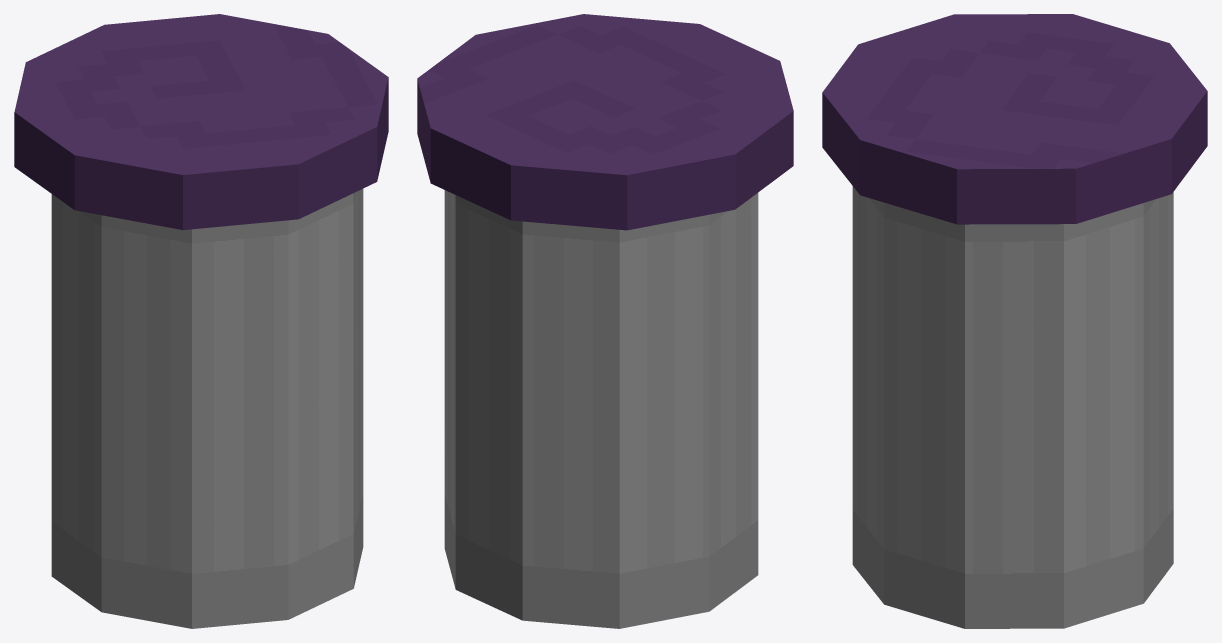
The model's file is pipeStraight.fbx.
The picture shows the model from 3 angles, left to right: view 1: azimuth 30°, elevation 25°; view 2: azimuth 150°, elevation 25°; view 3: azimuth 270°, elevation 25°; orthographic projection.
Parts seen in each view (by area): view 1: cylinder_1, cylinder; view 2: cylinder_1, cylinder; view 3: cylinder_1, cylinder.
Part boxes in pixels (bbox=[...]): cylinder_1: bbox=[51, 189, 363, 628]; cylinder: bbox=[14, 14, 388, 230]; cylinder_1: bbox=[444, 190, 758, 628]; cylinder: bbox=[417, 14, 793, 230]; cylinder_1: bbox=[852, 186, 1173, 628]; cylinder: bbox=[822, 14, 1207, 224].
Size of the model in its own units: 37.6 by 53.12 by 39.43.
1 material, 1 textured.
